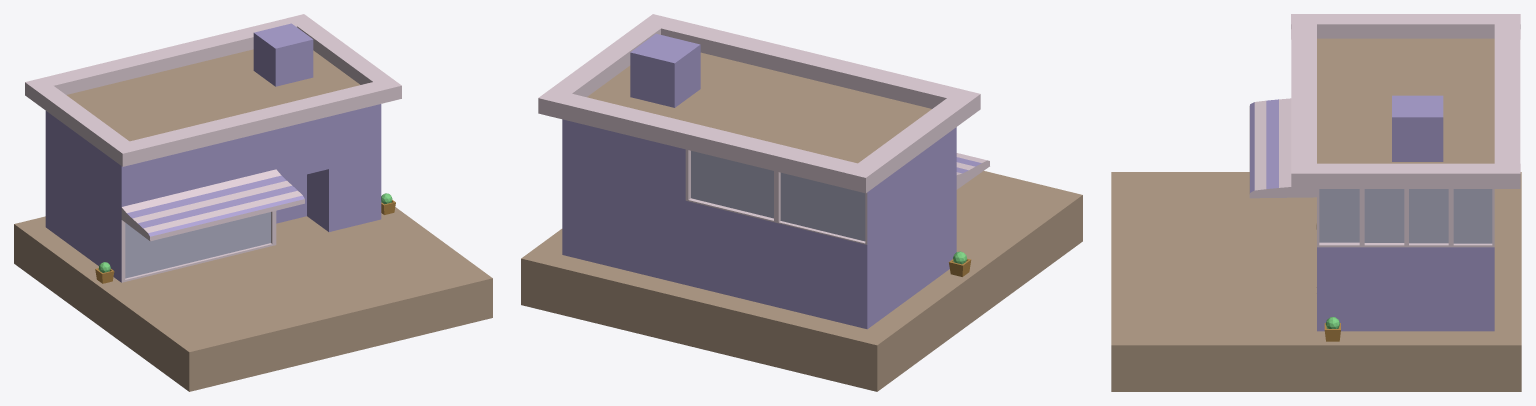
The model's file is building_coffee_blue.fbx.
3 renders of one model, left to right at view 1: azimuth 30°, elevation 25°; view 2: azimuth 150°, elevation 25°; view 3: azimuth 270°, elevation 25°, orthographic. The views are drawn at different scales.
Visible parts, largest first — view 1: Cube.001; view 2: Cube.001; view 3: Cube.001.
Boxes of the visible parts, x1,y1,x2,y2 form: Cube.001: (14, 14, 492, 391); Cube.001: (521, 14, 1082, 391); Cube.001: (1111, 14, 1521, 391).
Bounding box in the file's own units: 1600 × 1034 × 1600.
